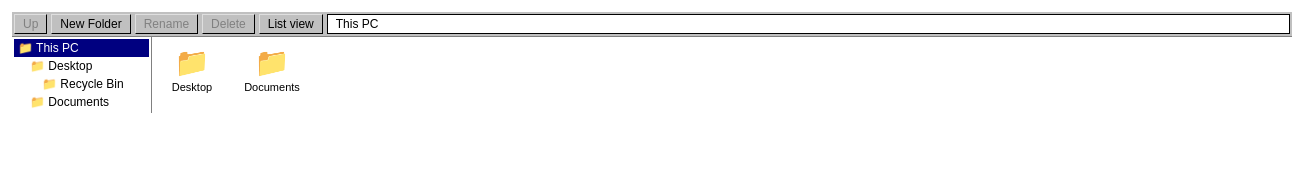
Scenario: CRUD › New Folder creates a folder in the current directory, selected
Click the button "New Folder" at x=91, y=24, box left=51, top=14, right=131, bottom=34
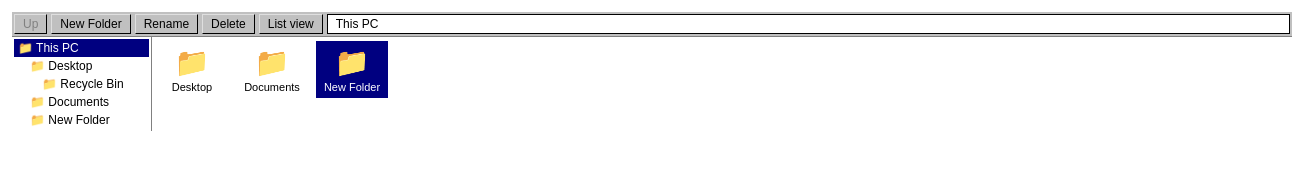
Check: the number of buttons "New Folder" is 2, box left=51, top=14, right=131, bottom=34; left=324, top=81, right=380, bottom=93
Check: the button "Rename" is enabled, box left=135, top=14, right=198, bottom=34
